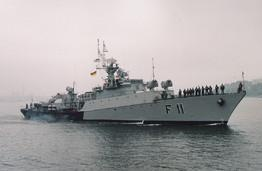warship: (22, 53, 245, 125)
